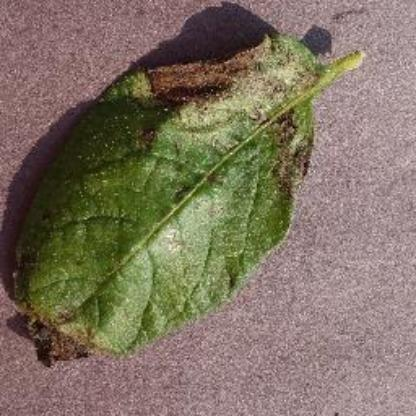Late-Blight: (12, 35, 388, 363)
